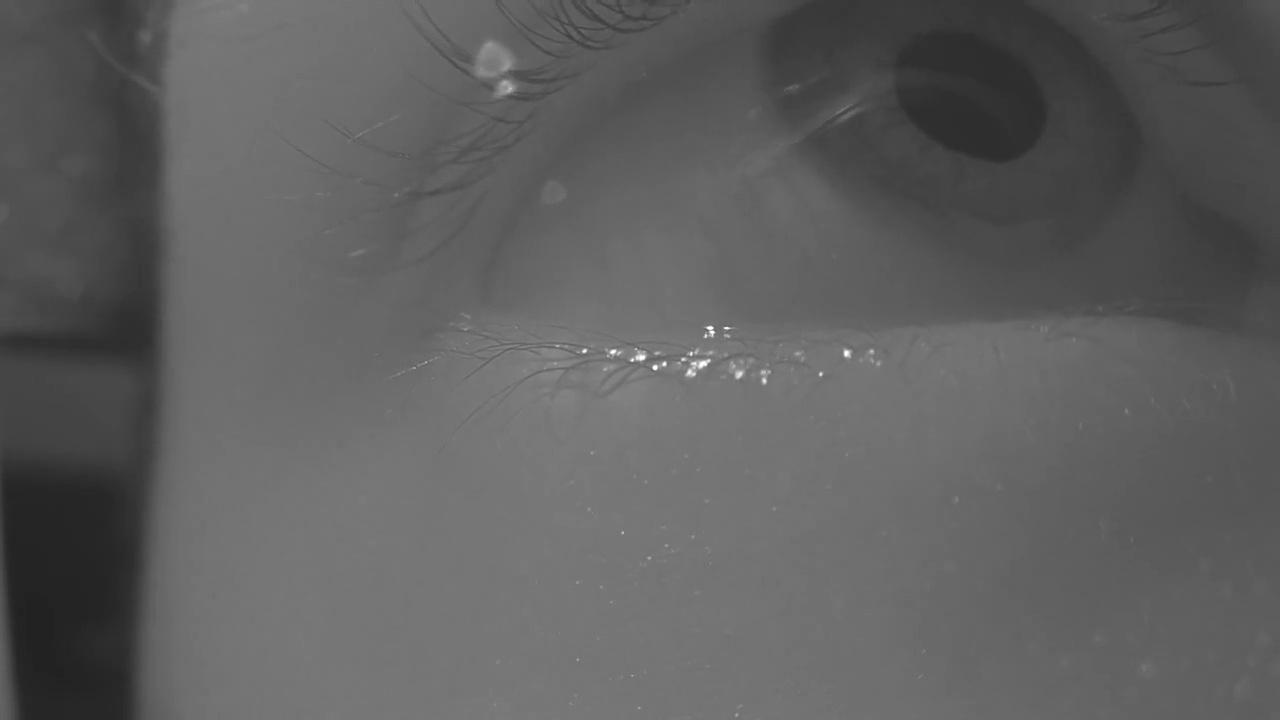pupil: (896, 29, 1048, 160)
